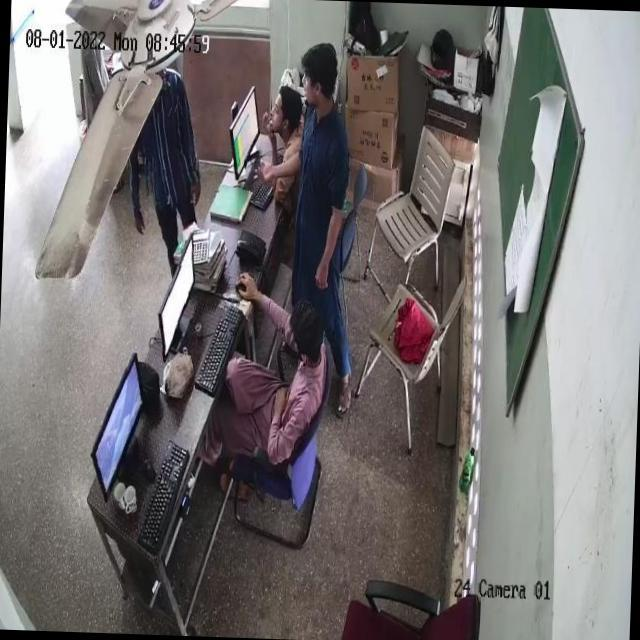person: (296, 54, 362, 396), (238, 302, 332, 452), (143, 71, 188, 244), (268, 75, 306, 181)
